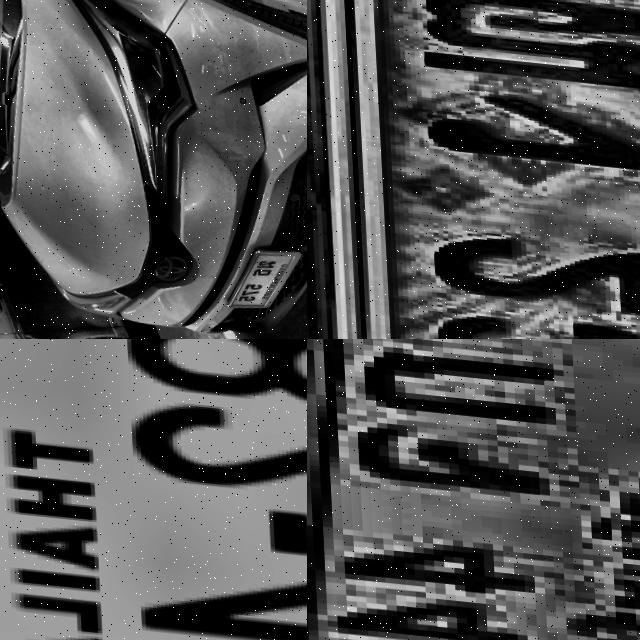license-plate: (308, 0, 640, 339), (307, 339, 640, 640), (0, 339, 307, 640), (217, 233, 302, 309)
